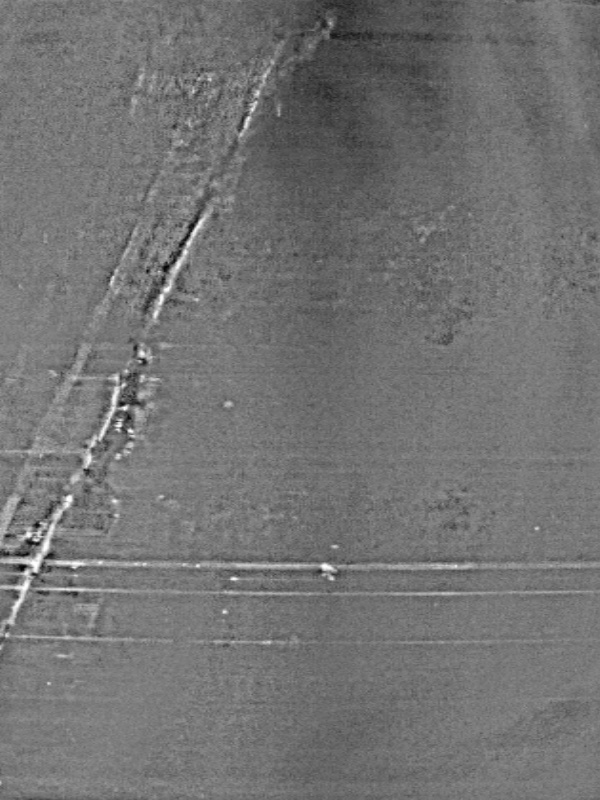splice_vulcanized: (1, 1, 331, 648)
